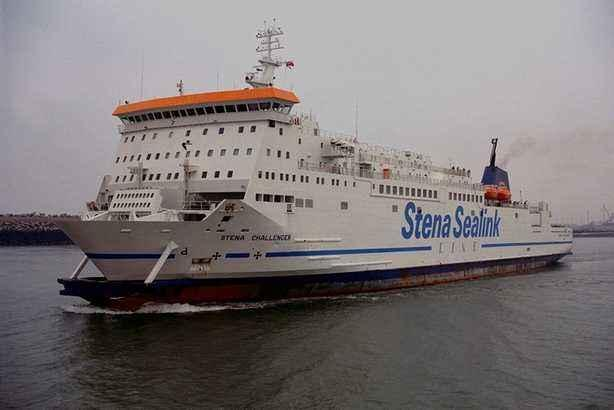youlun: (52, 25, 575, 311)
